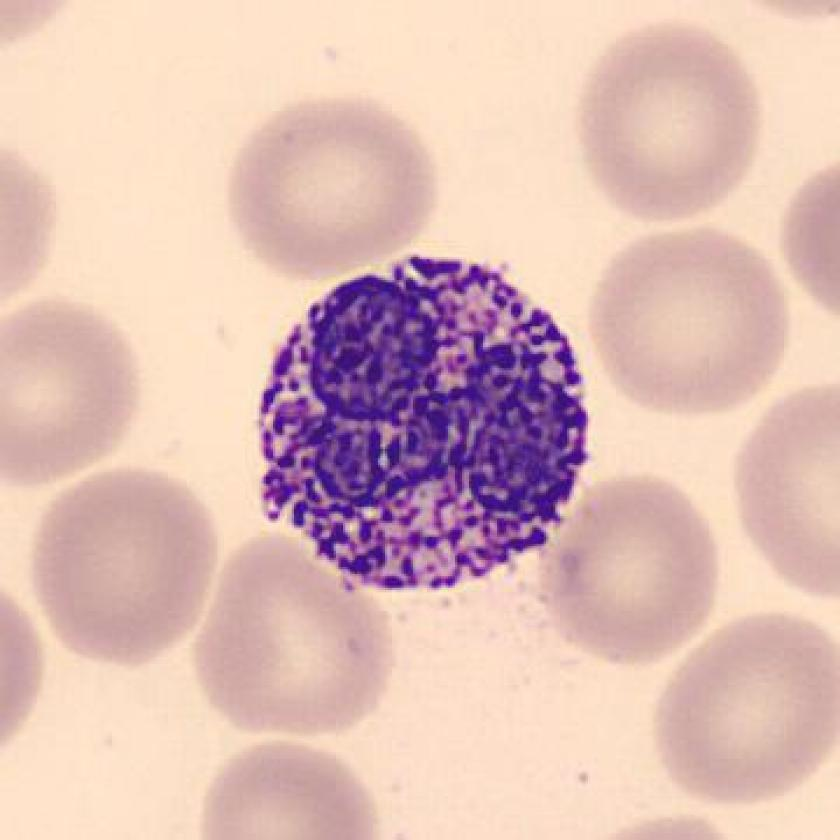basophil: (262, 256, 589, 596)
